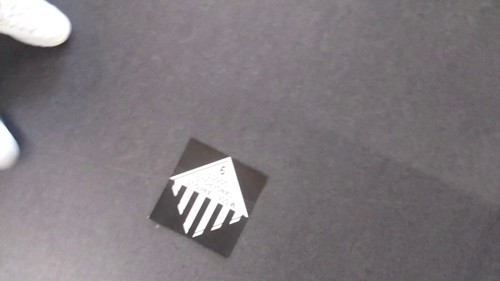misgoods: (165, 158, 250, 240)
